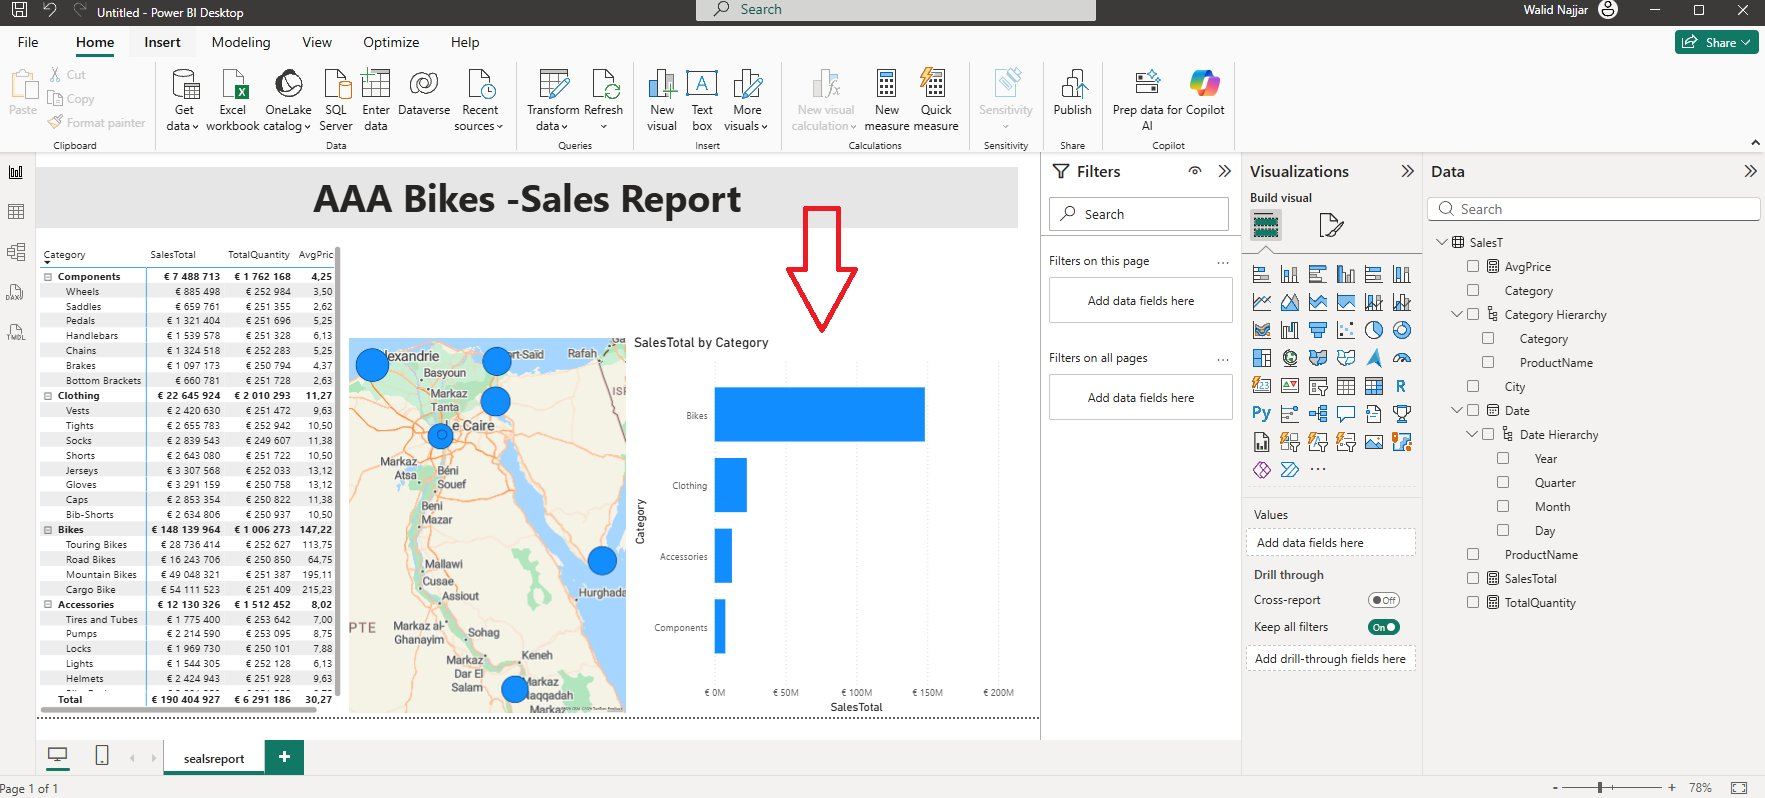

This screenshot's page, from the dashboard's own definition file:
{"tool":"powerbi","page":{"name":"sealsreport","canvas":[1280,720],"ordinal":0},"visuals":[{"type":"pivotTable","fields":{"Values":["SalesT.SalesTotal","SalesT.TotalQuantity","SalesT.AvgPrice"],"Rows":["SalesT.Category Hierarchy.Category","SalesT.Category Hierarchy.ProductName"]},"box":[17.8,126.2,381.6,582.1],"z":0},{"type":"textbox","box":[17.8,19.3,1251.8,92.1],"z":1000},{"type":"azureMap","fields":{"Category":["SalesT.City"],"Size":["SalesT.TotalQuantity"]},"box":[411.4,231.1,377.1,477.5],"z":2000},{"type":"clusteredBarChart","fields":{"Y":["SalesT.SalesTotal"],"Category":["SalesT.Category Hierarchy.Category","SalesT.Category Hierarchy.ProductName"]},"box":[800,229.8,355.6,477.5],"z":3000},{"type":"advancedSlicerVisual","fields":{"Values":["SalesT.Date.Variation.Date Hierarchy.Year"]},"box":[1172.1,231.1,97.8,477.5],"z":4000},{"type":"advancedSlicerVisual","fields":{"Values":["SalesT.City"]},"box":[411.3,126.2,858.3,84.6],"z":5000}]}

Visuals, with their boxes on the page's 1280x720 design canvas (x1, y1, x2, y2). These are canvas units, not pixel positions in the 1765x798 screenshot, which may show the page scaled, cropped or inside an application window:
pivotTable - SalesT.SalesTotal x SalesT.TotalQuantity: <bbox>18, 126, 399, 708</bbox>
textbox: <bbox>18, 19, 1270, 111</bbox>
azureMap - SalesT.City x SalesT.TotalQuantity: <bbox>411, 231, 788, 709</bbox>
clusteredBarChart - SalesT.SalesTotal x SalesT.Category Hierarchy.Category: <bbox>800, 230, 1156, 707</bbox>
advancedSlicerVisual - SalesT.Date.Variation.Date Hierarchy.Year: <bbox>1172, 231, 1270, 709</bbox>
advancedSlicerVisual - SalesT.City: <bbox>411, 126, 1270, 211</bbox>
